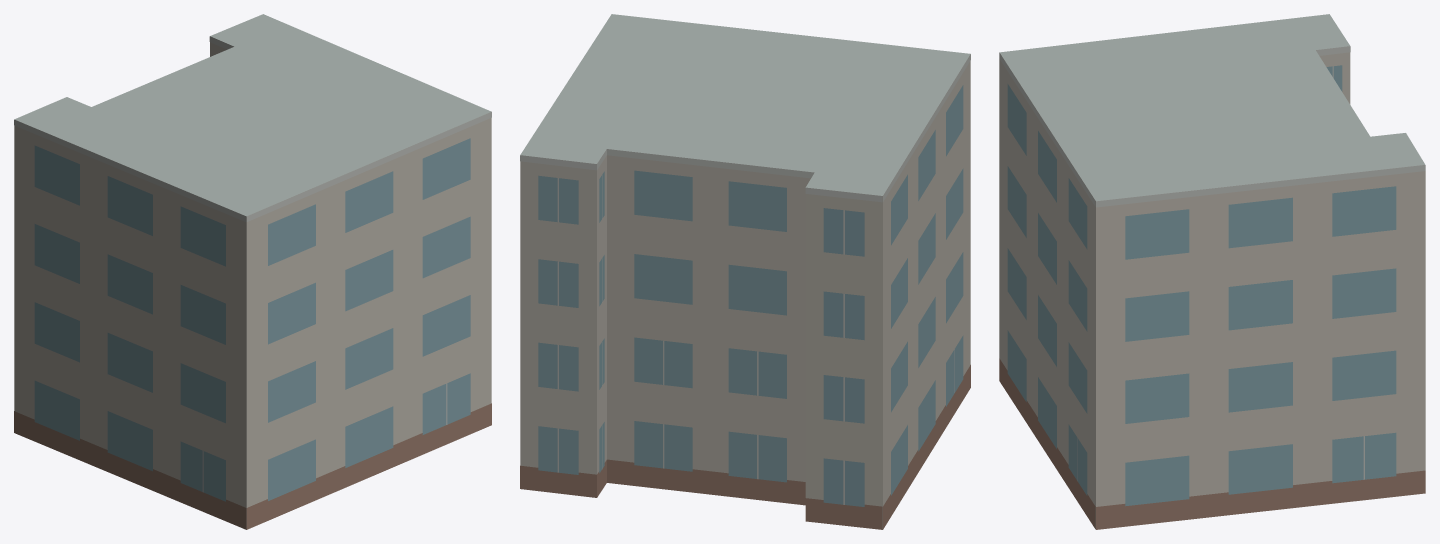
Rendered from survey-upis-32705756.glb.
The picture shows the model from 3 angles, left to right: view 1: azimuth 30°, elevation 25°; view 2: azimuth 150°, elevation 25°; view 3: azimuth 270°, elevation 25°; orthographic projection. The views are drawn at different scales.
Visible parts, largest first — view 1: survey-upis-32705756.tmp; view 2: survey-upis-32705756.tmp; view 3: survey-upis-32705756.tmp.
Boxes of the visible parts, x1=… form: survey-upis-32705756.tmp: x1=14, y1=14, x2=491, y2=529; survey-upis-32705756.tmp: x1=520, y1=14, x2=970, y2=529; survey-upis-32705756.tmp: x1=999, y1=14, x2=1425, y2=529.
Size of the model in its own units: 15.78 by 12.9 by 15.17.
